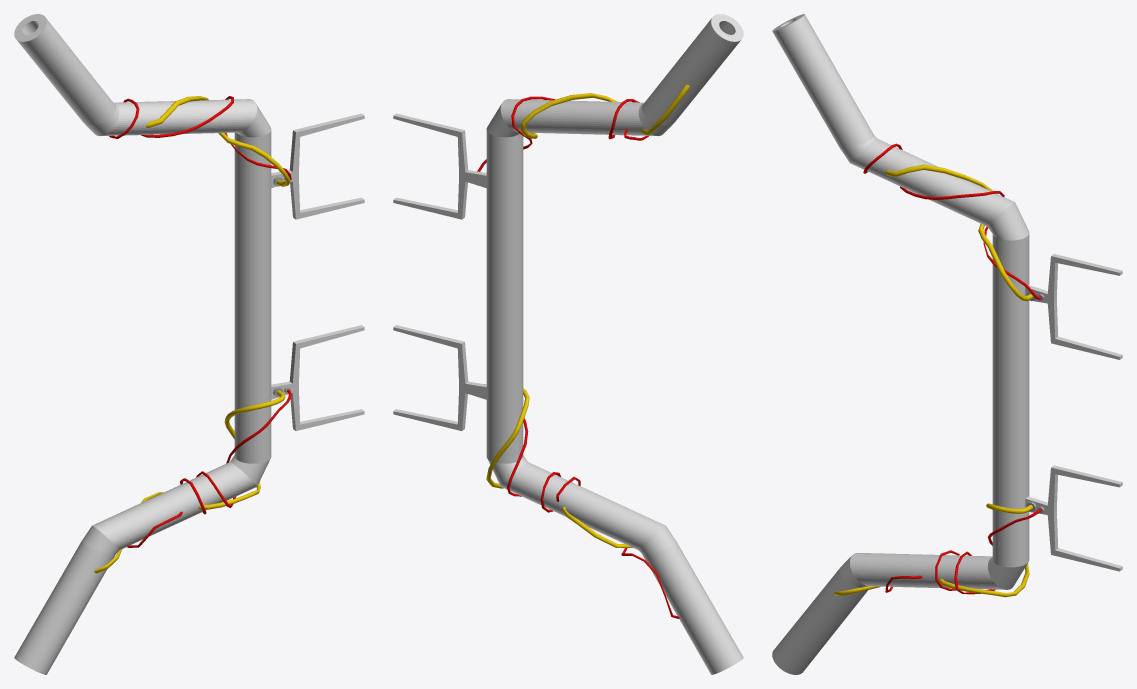
The model's file is the left bar.fbx.
3 renders of one model, left to right at view 1: azimuth 30°, elevation 25°; view 2: azimuth 150°, elevation 25°; view 3: azimuth 330°, elevation 25°, orthographic.
Visible parts, largest first — view 1: pPipe2, pCube1, pCube3, pCylinder1, pCylinder4, pCylinder2, pCylinder3; view 2: pPipe2, pCube1, pCube3, pCylinder4, pCylinder1, pCylinder2, pCylinder3; view 3: pPipe2, pCube1, pCube3, pCylinder4, pCylinder1, pCylinder2, pCylinder3.
Part boxes in pixels (left/top/right/bottom): pPipe2: left=14, top=14, right=271, bottom=674; pCube1: left=271, top=325, right=364, bottom=430; pCube3: left=271, top=113, right=364, bottom=219; pCylinder1: left=94, top=390, right=285, bottom=573; pCylinder4: left=146, top=96, right=290, bottom=186; pCylinder2: left=127, top=389, right=291, bottom=547; pCylinder3: left=109, top=96, right=291, bottom=179; pPipe2: left=486, top=14, right=743, bottom=674; pCube1: left=393, top=325, right=486, bottom=430; pCube3: left=393, top=113, right=486, bottom=219; pCylinder4: left=520, top=84, right=690, bottom=138; pCylinder1: left=486, top=388, right=632, bottom=547; pCylinder2: left=507, top=418, right=679, bottom=618; pCylinder3: left=477, top=96, right=648, bottom=171; pPipe2: left=772, top=14, right=1029, bottom=674; pCube1: left=1025, top=465, right=1122, bottom=571; pCube3: left=1025, top=254, right=1122, bottom=359; pCylinder4: left=885, top=164, right=1032, bottom=301; pCylinder1: left=834, top=503, right=1032, bottom=597; pCylinder2: left=885, top=509, right=1041, bottom=594; pCylinder3: left=863, top=143, right=1041, bottom=299.
Bounding box in the file's own units: 16.2 × 29.33 × 2.82.
